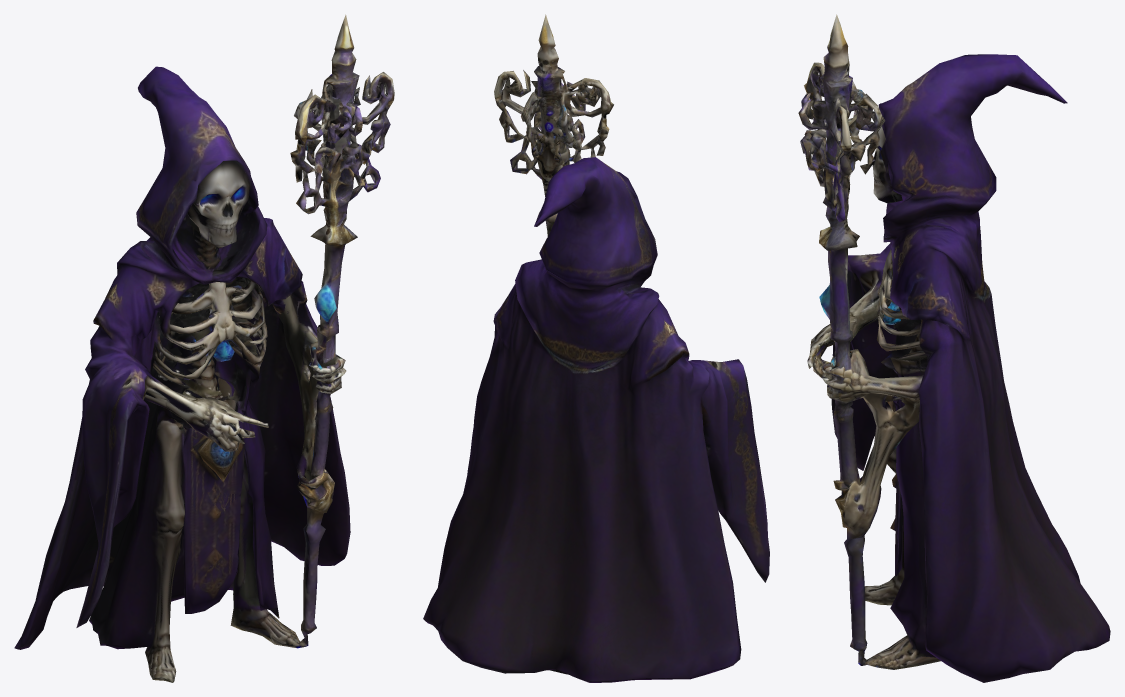
3 renders of one model, left to right at view 1: azimuth 30°, elevation 25°; view 2: azimuth 150°, elevation 25°; view 3: azimuth 270°, elevation 25°, orthographic. The views are drawn at different scales.
Parts seen in each view (by area): view 1: Abyssal Necromancer_0; view 2: Abyssal Necromancer_0; view 3: Abyssal Necromancer_0.
Boxes of the visible parts, bbox=[...] form: Abyssal Necromancer_0: bbox=[14, 14, 394, 682]; Abyssal Necromancer_0: bbox=[423, 14, 769, 682]; Abyssal Necromancer_0: bbox=[798, 14, 1110, 682].
Size of the model in its own units: 5.56 by 10.41 by 4.4.
1 material, 1 textured.
